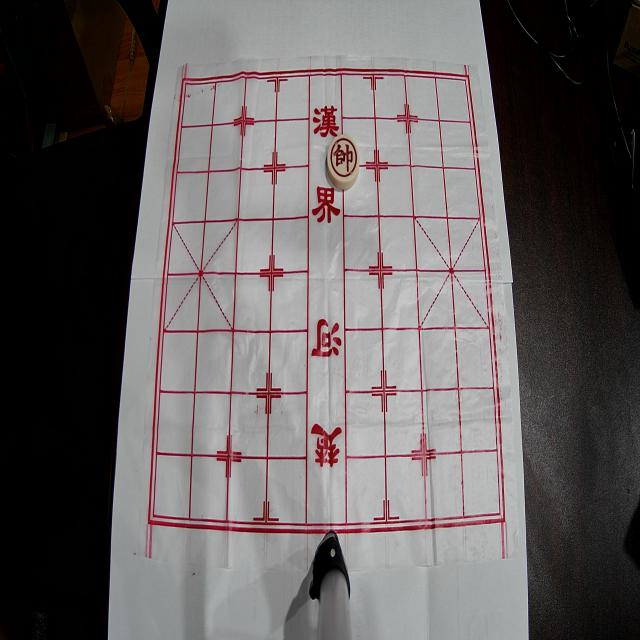red-general: (328, 135, 360, 189)
